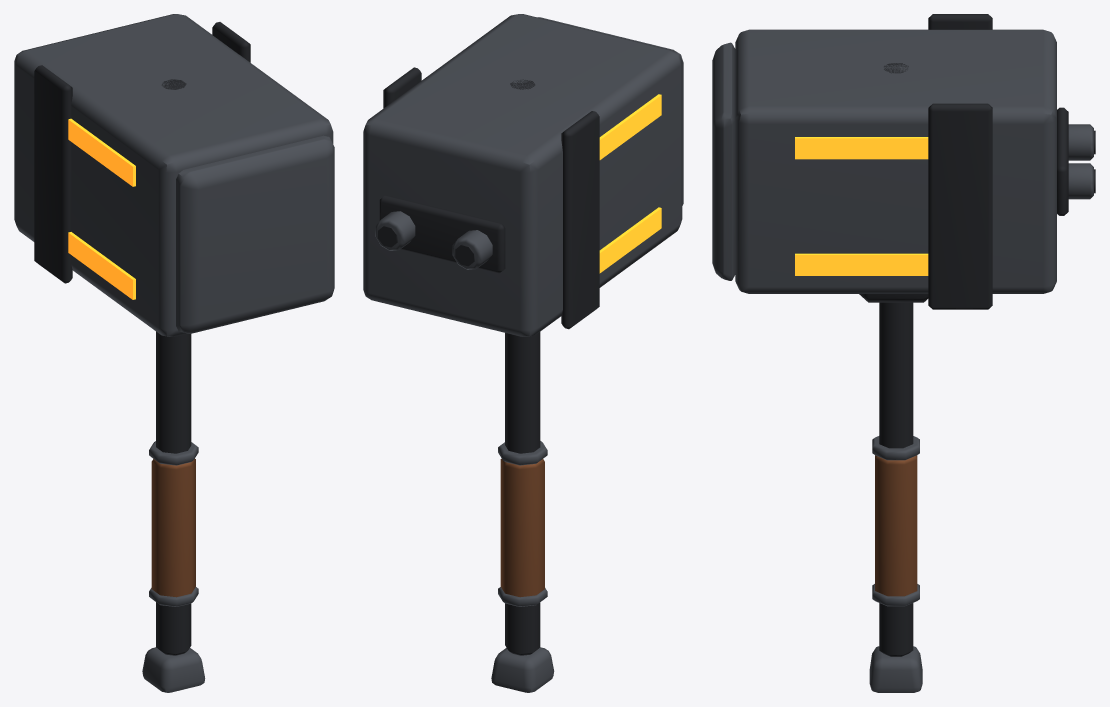
The model's file is malleus_hammer.glb.
The picture shows the model from 3 angles, left to right: view 1: azimuth 30°, elevation 25°; view 2: azimuth 150°, elevation 25°; view 3: azimuth 270°, elevation 25°; orthographic projection. The views are drawn at different scales.
Visible parts, largest first — view 1: malleus_hammer; view 2: malleus_hammer; view 3: malleus_hammer.
Part boxes in pixels (x1,y1,x2,y2): malleus_hammer: (14,14,334,692); malleus_hammer: (363,14,683,692); malleus_hammer: (712,14,1095,692).
Size of the model in its own units: 0.4908 by 1.5 by 0.834.
